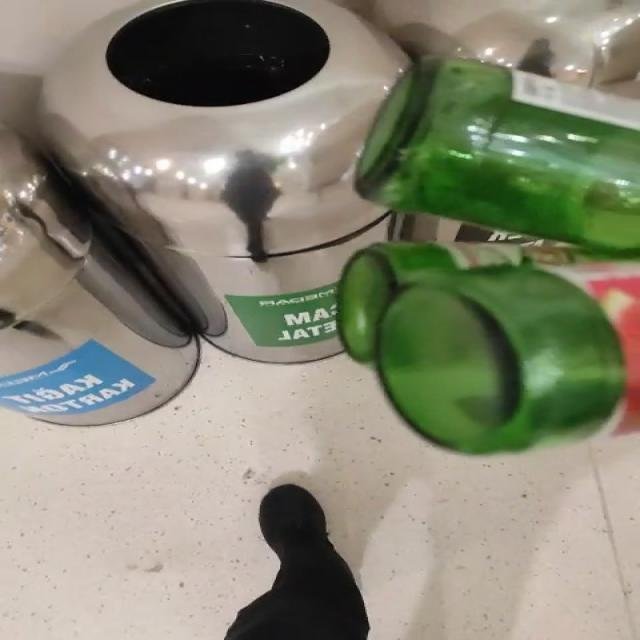bin: (0, 0, 411, 425)
glass: (339, 59, 639, 454)
